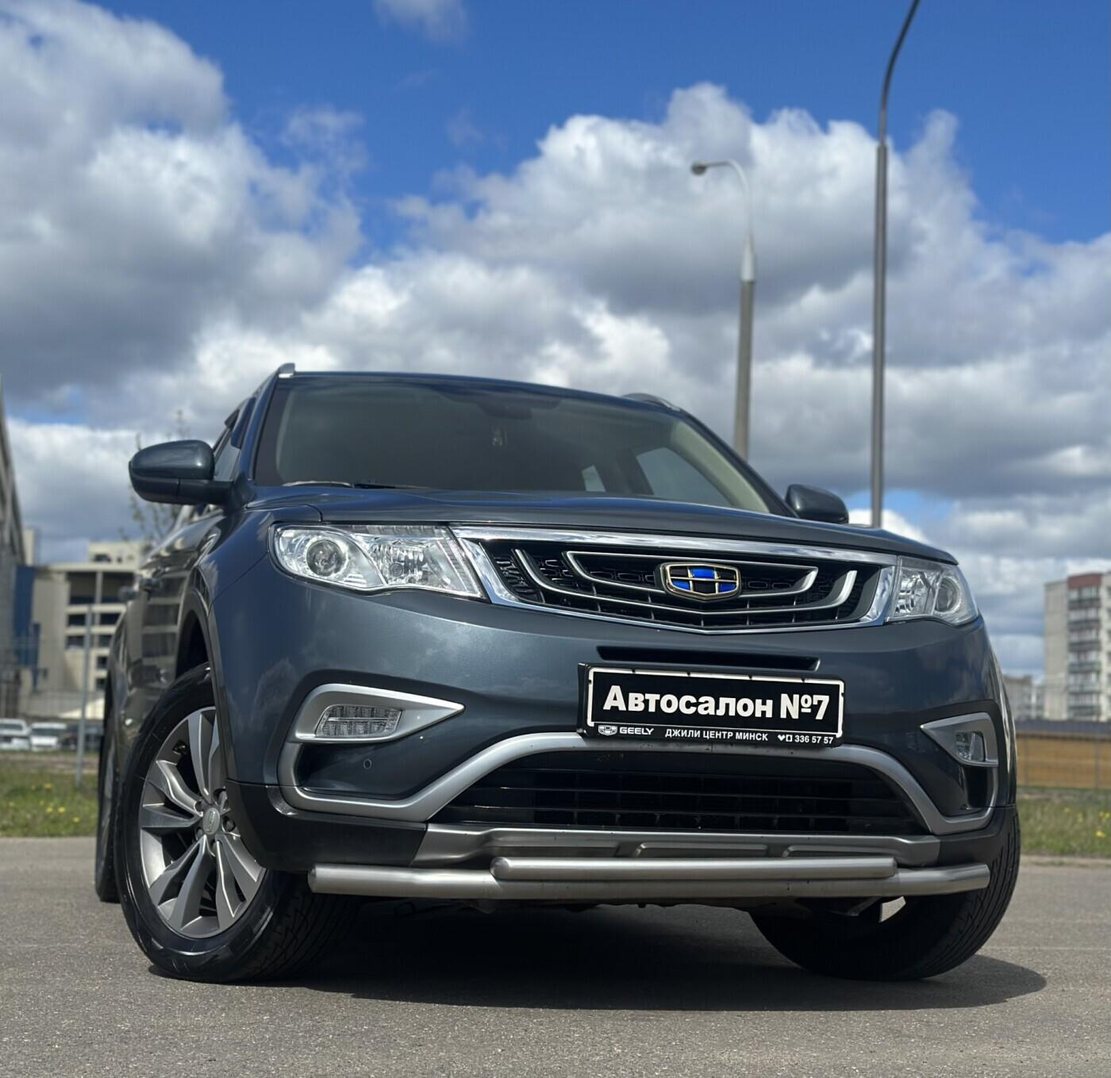Atlas_2016-2023: (93, 361, 1032, 1014)
